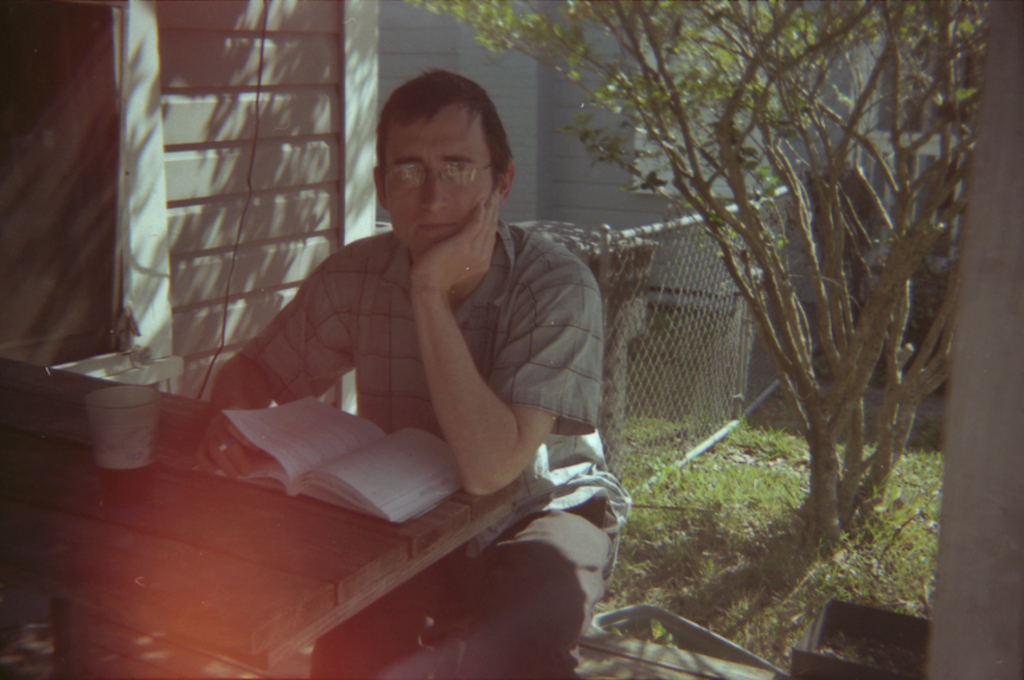Table: (0, 346, 561, 679)
